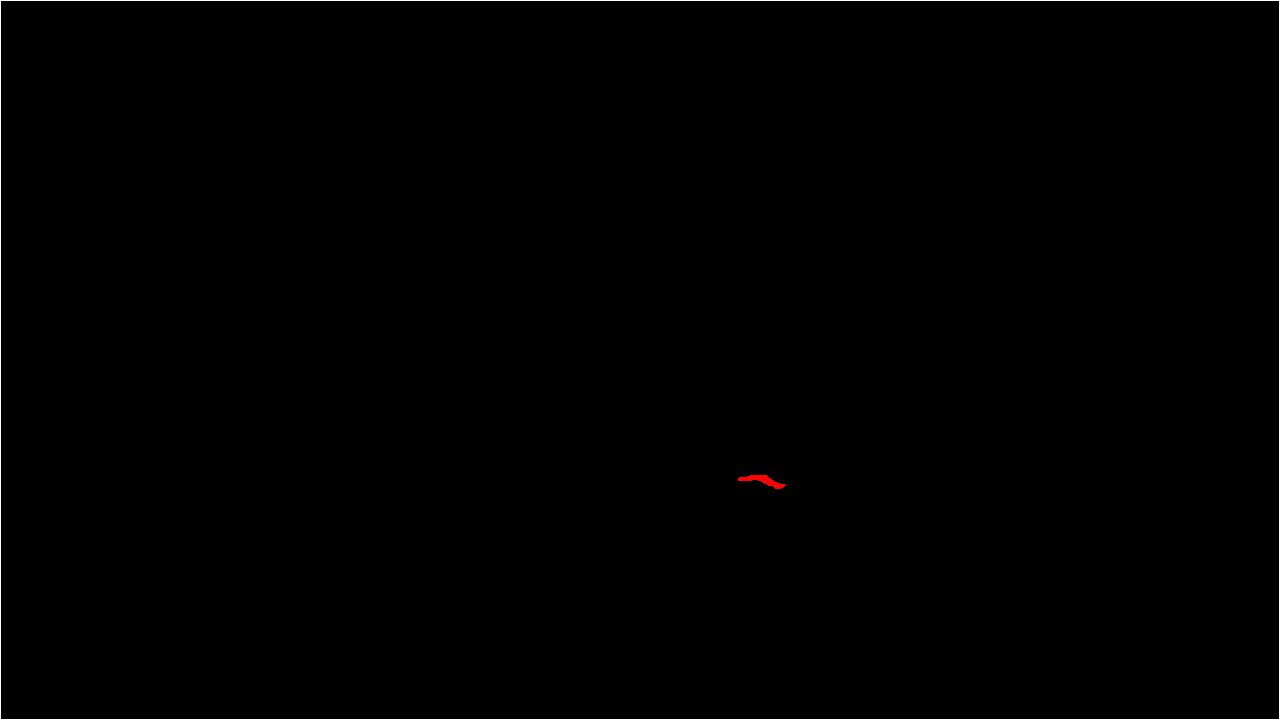drone: (730, 454, 801, 507)
